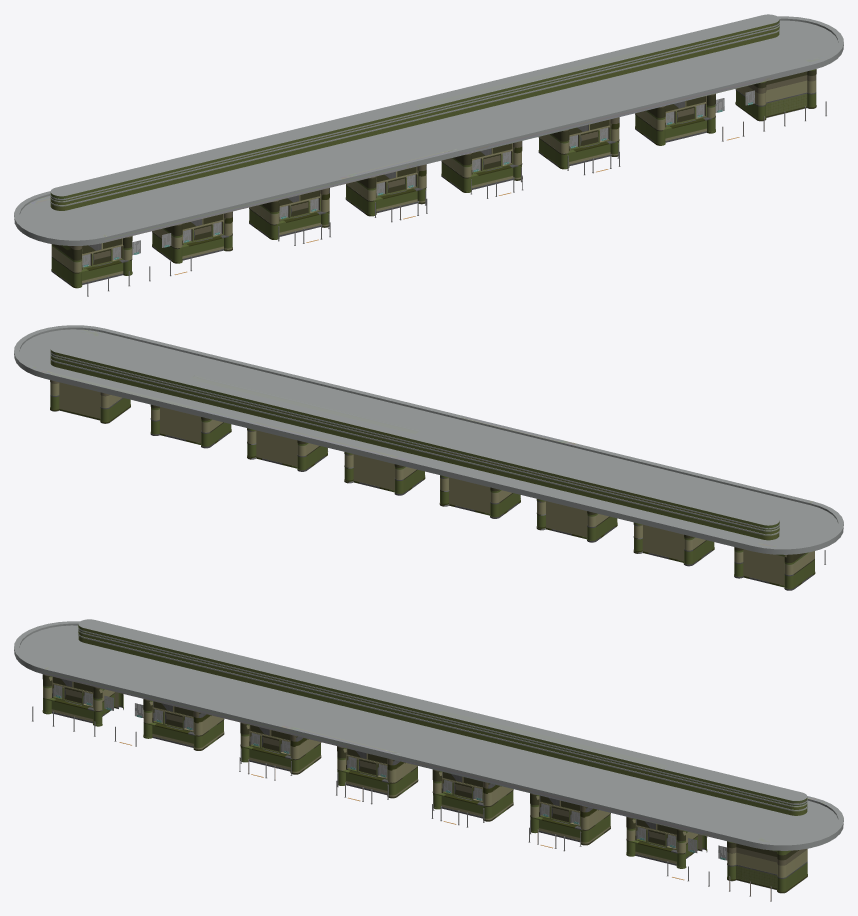
3 views of the same model, one above another, from view 1: azimuth 30°, elevation 25°; view 2: azimuth 150°, elevation 25°; view 3: azimuth 330°, elevation 25° (orthographic).
Visible parts, largest first — view 1: entrance_roof_Circle, entrance_building_01_Circle.065, entrance_building_03_Circle.057, entrance_building_blinds_Circle.009, entrance_post_Circle.003; view 2: entrance_roof_Circle, entrance_building_01_Circle.065, entrance_building_03_Circle.057; view 3: entrance_roof_Circle, entrance_building_01_Circle.065, entrance_building_03_Circle.057, entrance_building_blinds_Circle.009, entrance_post_Circle.003.
Part boxes in pixels (bbox=[...]): entrance_roof_Circle: bbox=[14, 14, 843, 245]; entrance_building_01_Circle.065: bbox=[51, 93, 715, 288]; entrance_building_03_Circle.057: bbox=[735, 69, 816, 121]; entrance_building_blinds_Circle.009: bbox=[82, 90, 754, 267]; entrance_post_Circle.003: bbox=[87, 101, 826, 296]; entrance_roof_Circle: bbox=[14, 325, 843, 554]; entrance_building_01_Circle.065: bbox=[150, 404, 815, 590]; entrance_building_03_Circle.057: bbox=[50, 380, 130, 423]; entrance_roof_Circle: bbox=[14, 619, 843, 850]; entrance_building_01_Circle.065: bbox=[42, 674, 707, 868]; entrance_building_03_Circle.057: bbox=[727, 841, 807, 893]; entrance_building_blinds_Circle.009: bbox=[54, 684, 727, 860]; entrance_post_Circle.003: bbox=[32, 706, 771, 901].
Size of the model in its own units: 53.33 by 4.41 by 6.92.
5 materials, 5 textured.
